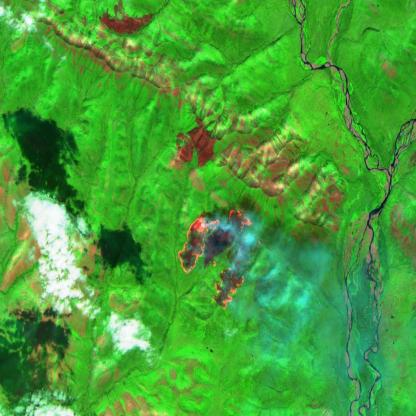fire: (176, 206, 258, 310)
